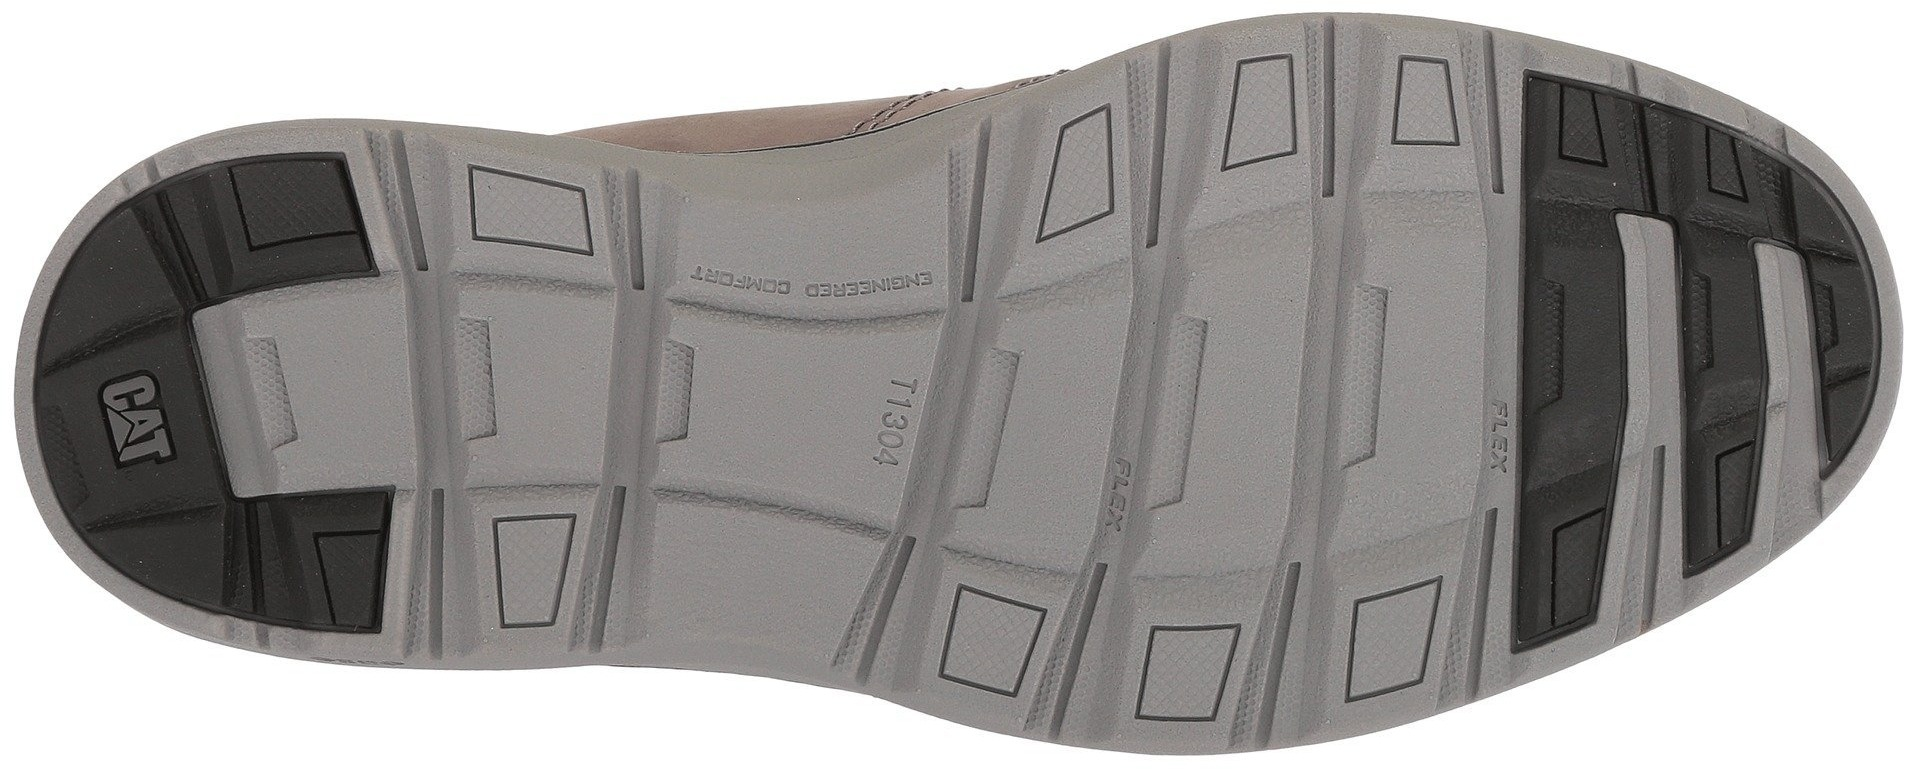quad: (939, 121, 1521, 615), (173, 159, 643, 634), (569, 302, 950, 673), (1530, 190, 1835, 530), (1548, 66, 1626, 186)
text: (939, 121, 1521, 615), (569, 302, 950, 673), (1452, 386, 1551, 477), (1067, 449, 1163, 542), (852, 405, 920, 477), (685, 244, 752, 309), (877, 251, 935, 309), (742, 258, 799, 313), (801, 260, 860, 313), (874, 364, 929, 417)
